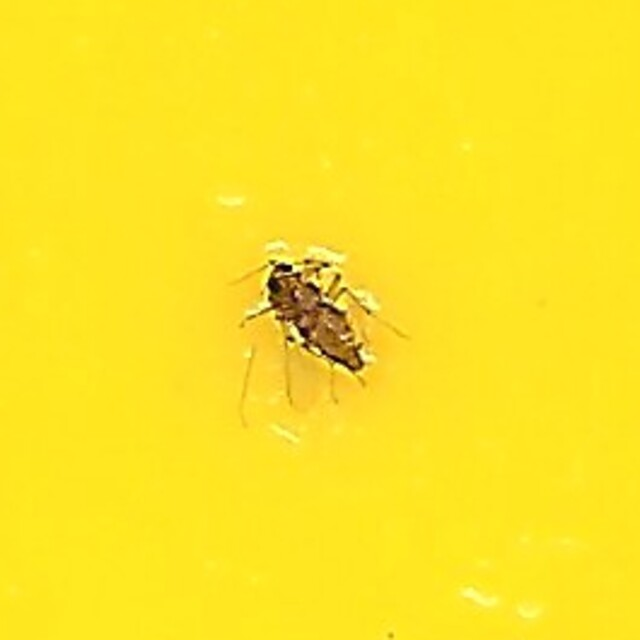Nematocera: (242, 250, 398, 390)
